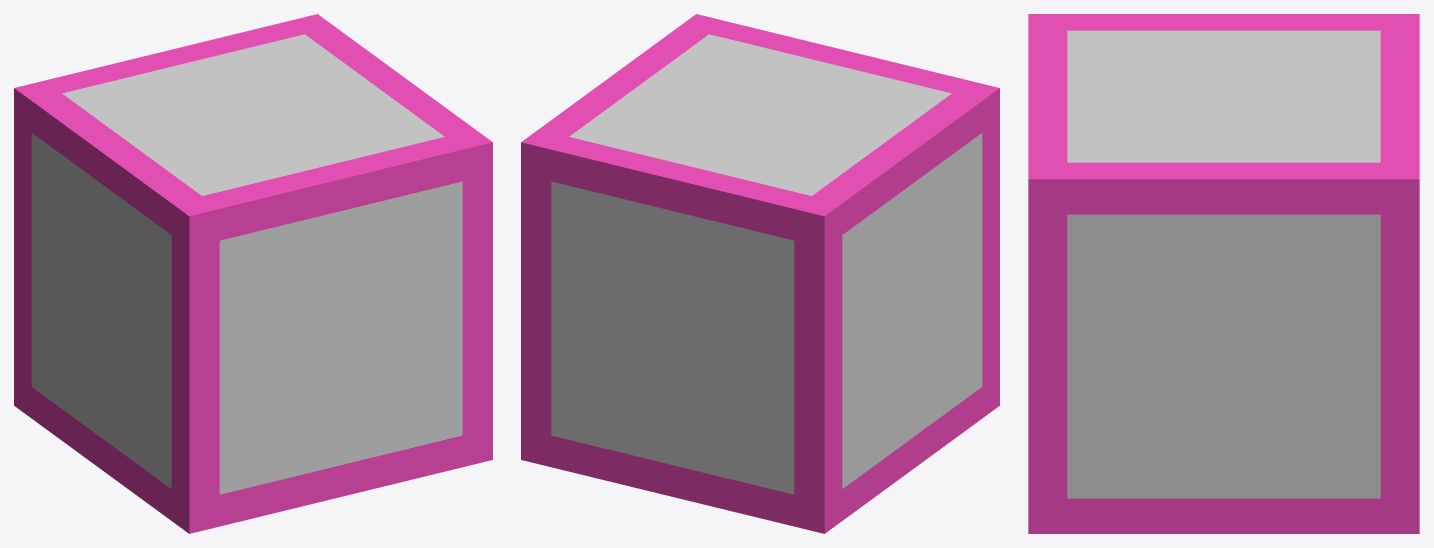
3 views of the same model, side by side, from view 1: azimuth 30°, elevation 25°; view 2: azimuth 150°, elevation 25°; view 3: azimuth 270°, elevation 25° (orthographic). The views are drawn at different scales.
Visible parts, largest first — view 1: SketchUp; view 2: SketchUp; view 3: SketchUp.
Boxes of the visible parts, x1=… form: SketchUp: x1=14, y1=14, x2=492, y2=533; SketchUp: x1=521, y1=14, x2=999, y2=533; SketchUp: x1=1028, y1=14, x2=1419, y2=533.
Bounding box in the file's own units: 10 × 10 × 10.
